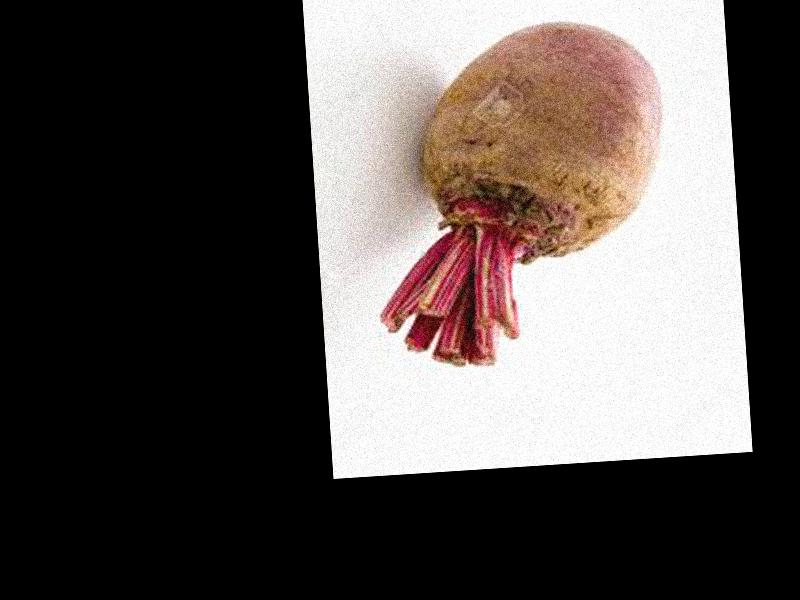Beet: (359, 14, 679, 371)
